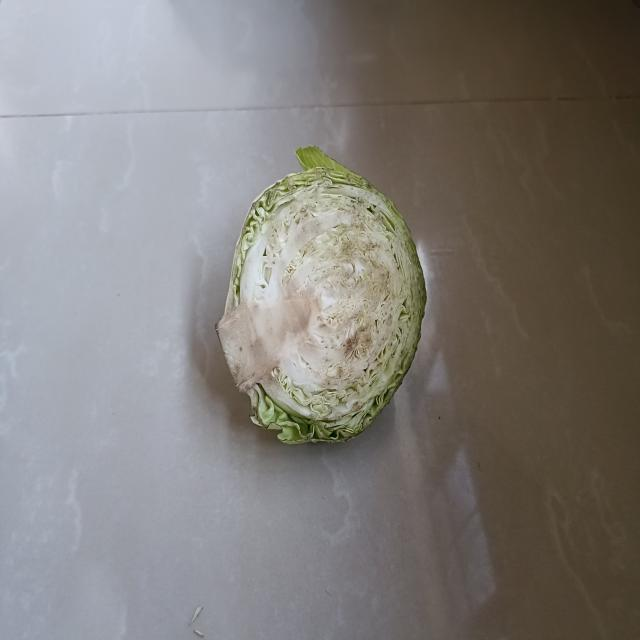cabbage: (212, 140, 430, 453)
